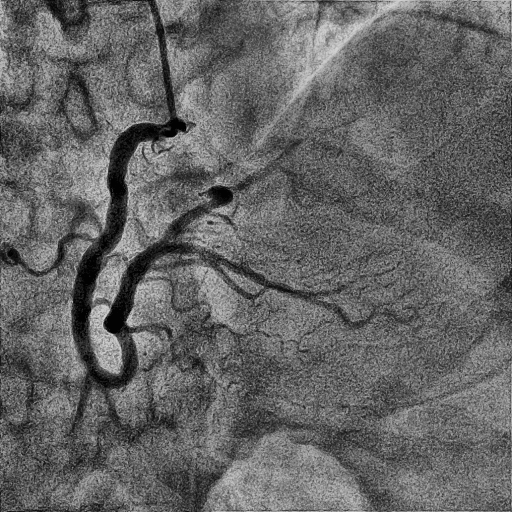pborca: (158, 199, 222, 243)
pda: (168, 242, 417, 330)
rca: (71, 123, 168, 389)
